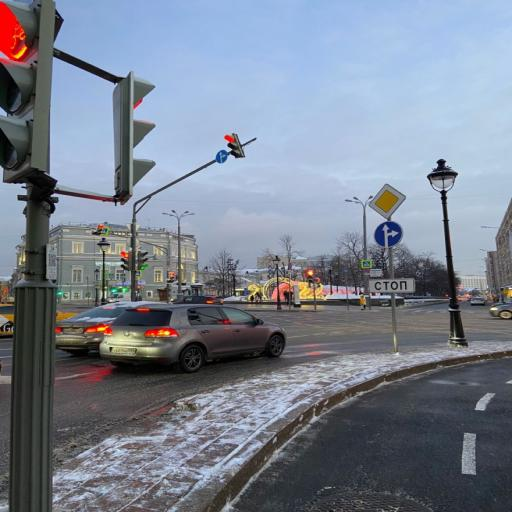book: (100, 304, 285, 372)
glass_wall: (233, 358, 512, 512)
pole: (0, 0, 57, 201), (113, 71, 155, 201), (222, 130, 246, 162)
